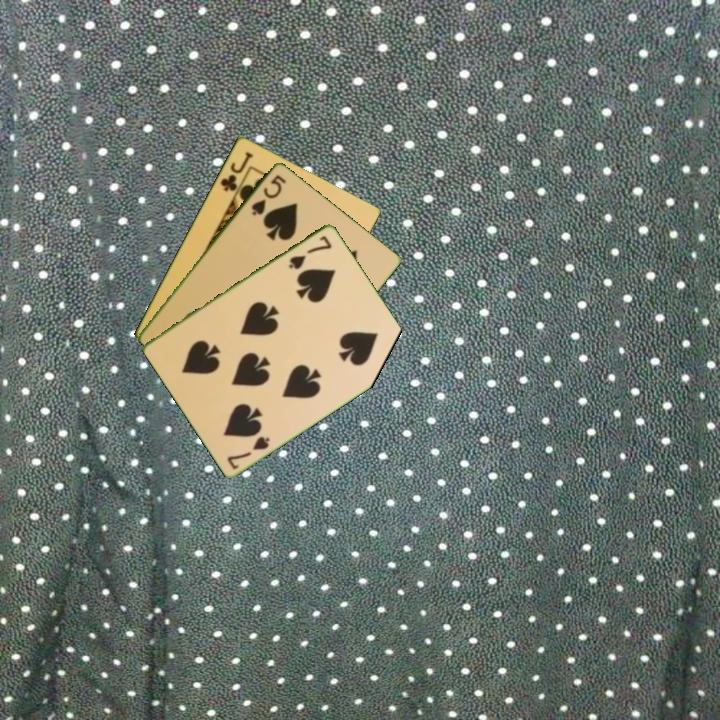5s: (247, 171, 289, 218)
7s: (285, 232, 335, 272), (223, 432, 273, 472)
Jc: (217, 148, 256, 194)
